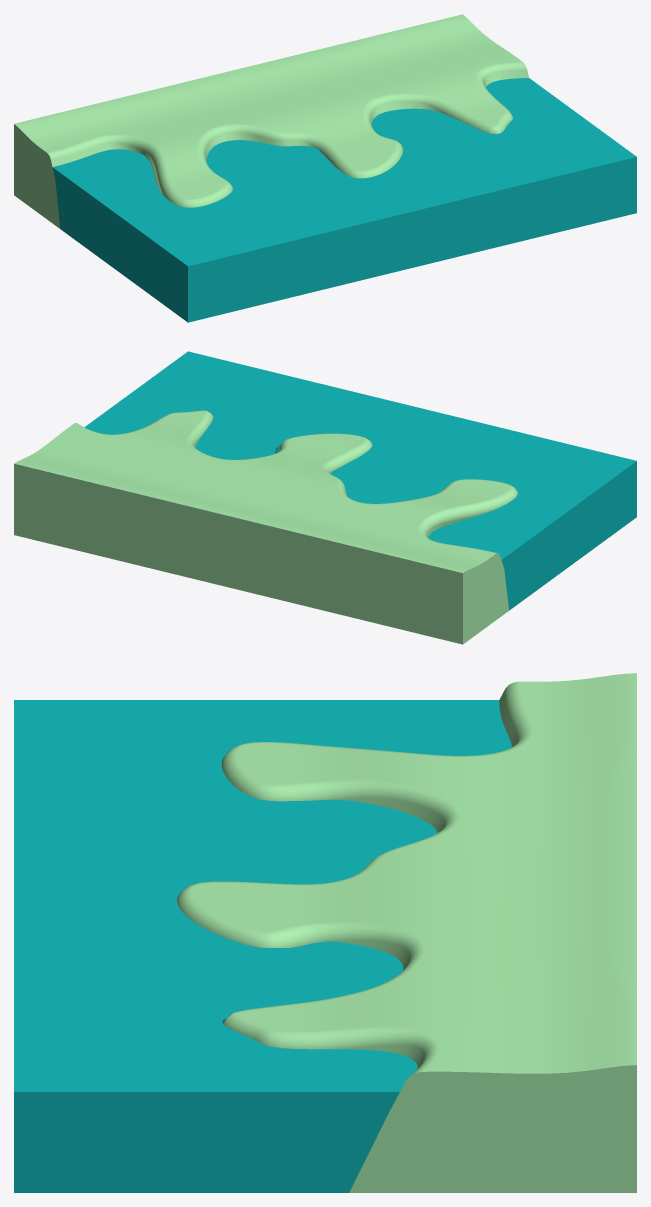
File: sea.fbx
3 views of the same model, one above another, from view 1: azimuth 30°, elevation 25°; view 2: azimuth 150°, elevation 25°; view 3: azimuth 270°, elevation 25° (orthographic). The views are drawn at different scales.
Parts seen in each view (by area): view 1: 物件_1, 物件_2; view 2: 物件_2, 物件_1; view 3: 物件_1, 物件_2.
Boxes of the visible parts, x1,y1,x2,y2 form: 物件_1: [52, 78, 636, 322]; 物件_2: [14, 14, 528, 228]; 物件_2: [14, 410, 517, 644]; 物件_1: [84, 351, 636, 610]; 物件_1: [14, 700, 511, 1192]; 物件_2: [177, 673, 636, 1192].
Bounding box in the file's own units: 57.84 × 38.85 × 8.8.
